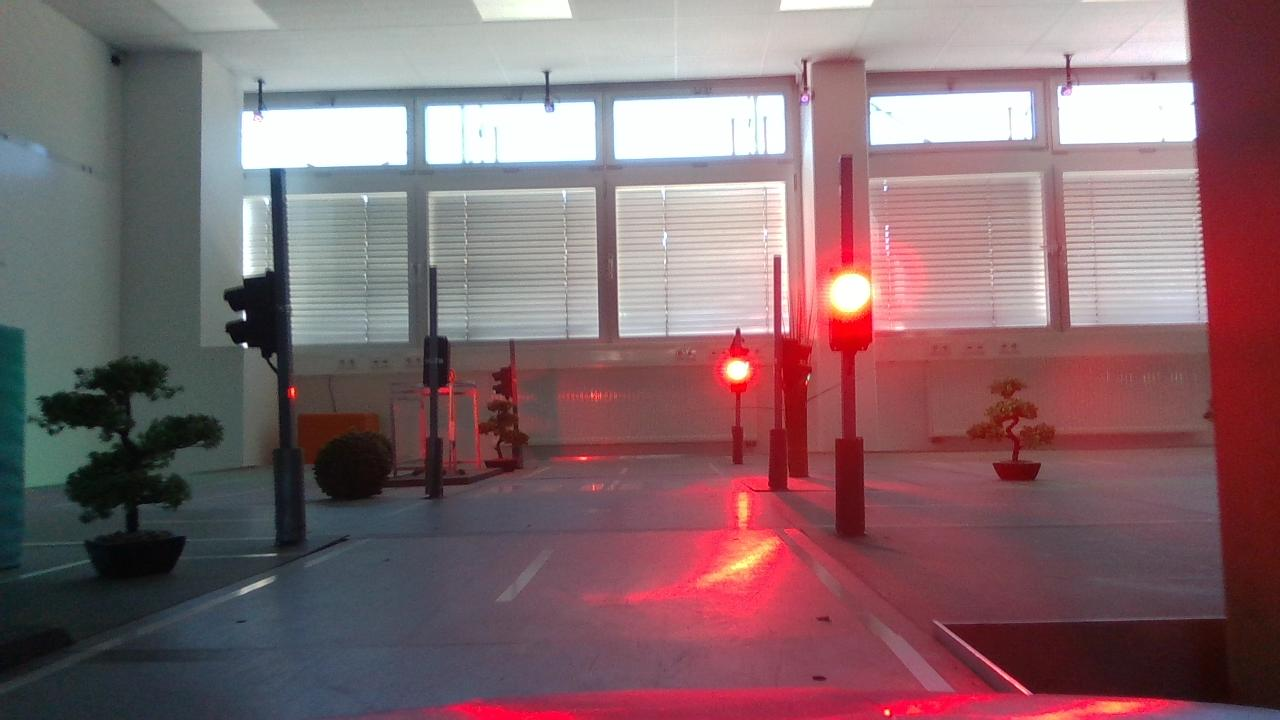traffic_light_red: (812, 253, 884, 362)
